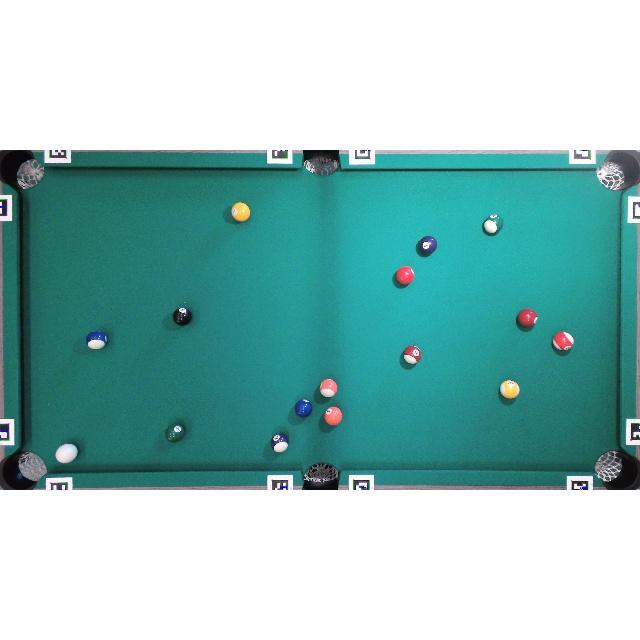cue ball: (55, 444, 78, 464)
other: (164, 421, 186, 443), (552, 331, 574, 351), (483, 214, 503, 235), (172, 306, 192, 326), (417, 236, 437, 256), (517, 308, 537, 328), (86, 331, 107, 350), (319, 378, 338, 398), (402, 345, 422, 364), (324, 406, 343, 426), (231, 202, 250, 221), (294, 398, 312, 418), (500, 380, 519, 398), (396, 266, 414, 285), (270, 434, 288, 453)
